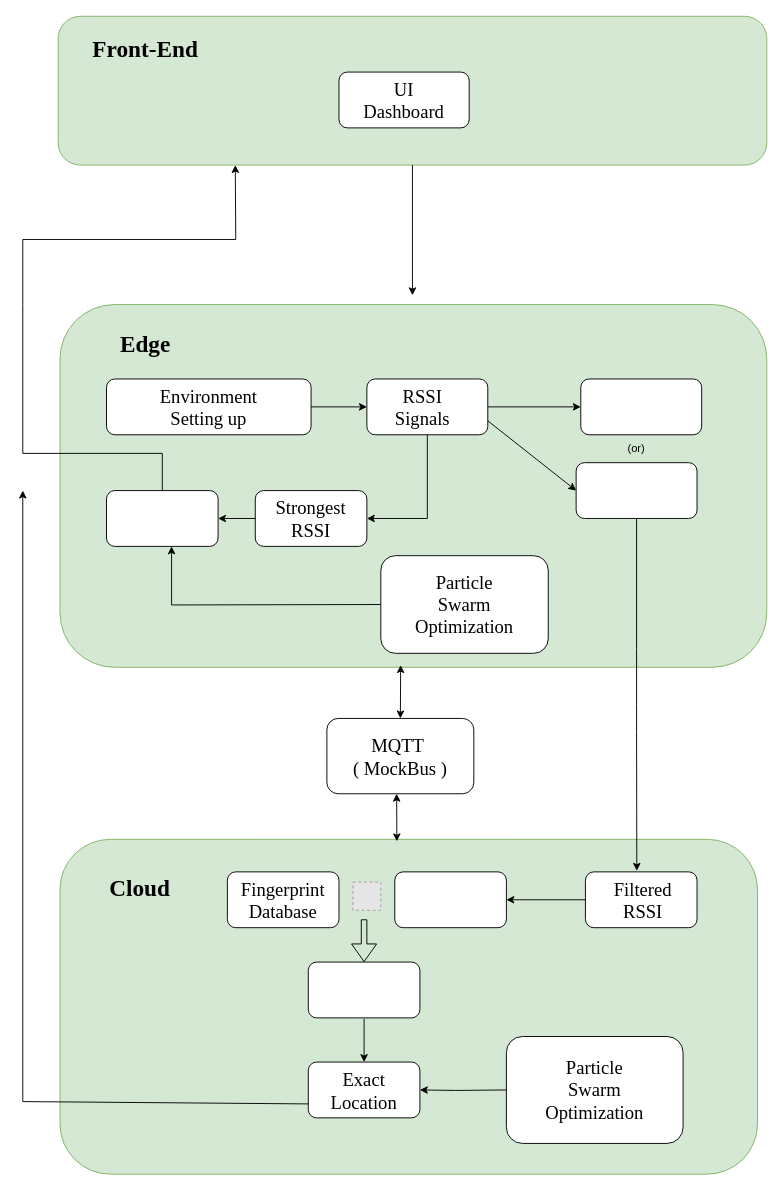
Image size: 783x1190. Some labels were removed from this diagram. Grey dashed boxes stand in for pictures. Here are the shapes that lost their labels. From the top down, the centre of each, then its label:
At point (641, 406): "Kalman Filter".
At point (636, 490): "Fuzzy Logic".
At point (162, 518): "Coarse Location".
At point (450, 899): "Current RSSI".
At point (363, 989): "KNN -Avg".
